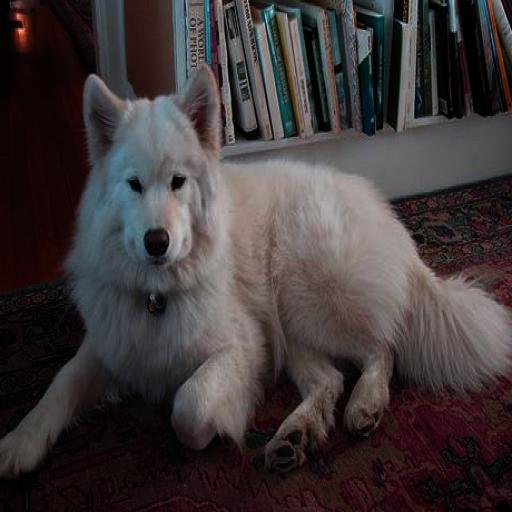dog_face: (82, 70, 216, 272)
